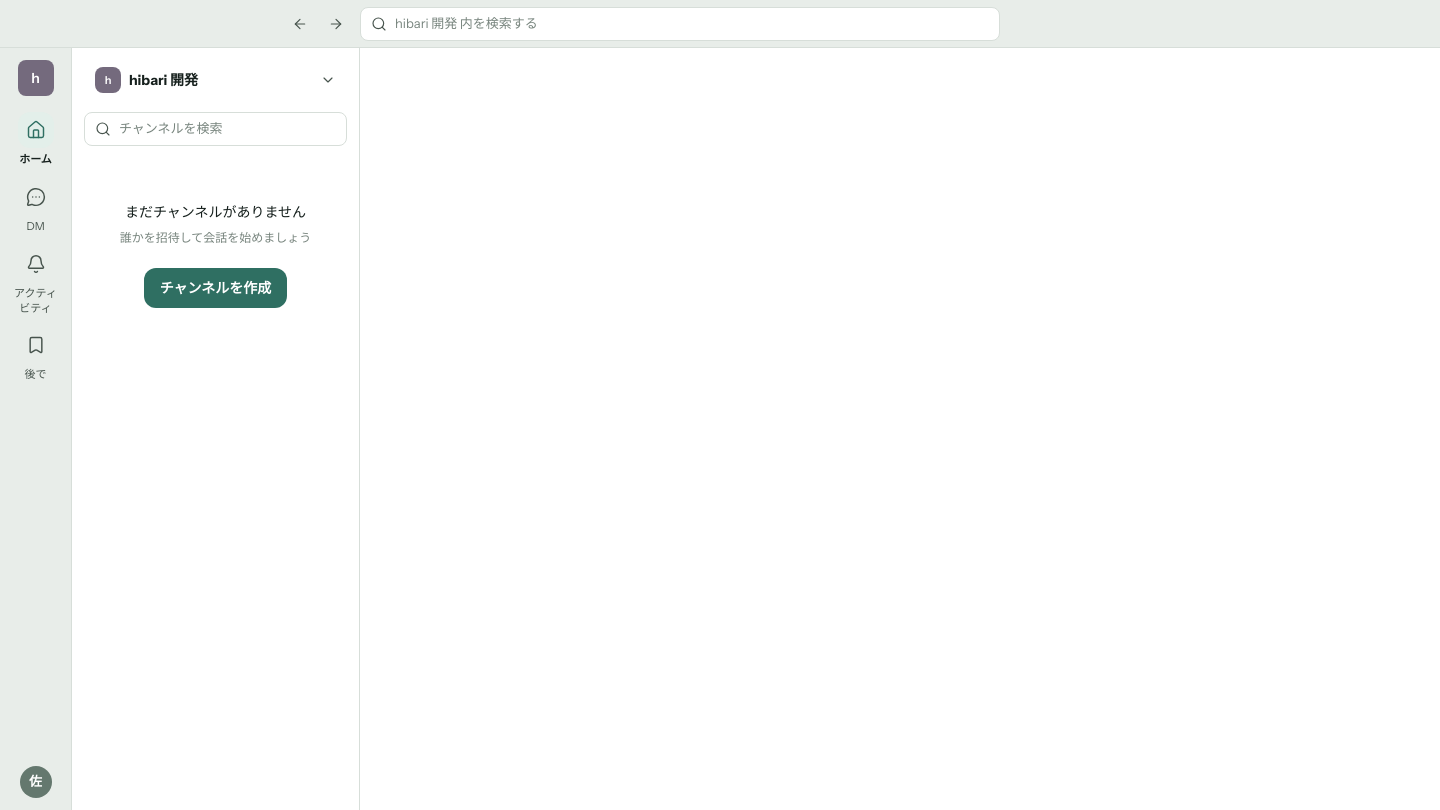
Test: WorkspaceScreen › creates the first channel of an empty workspace and opens it
Click the button "チャンネルを作成": (216, 288) [144,268,287,308]
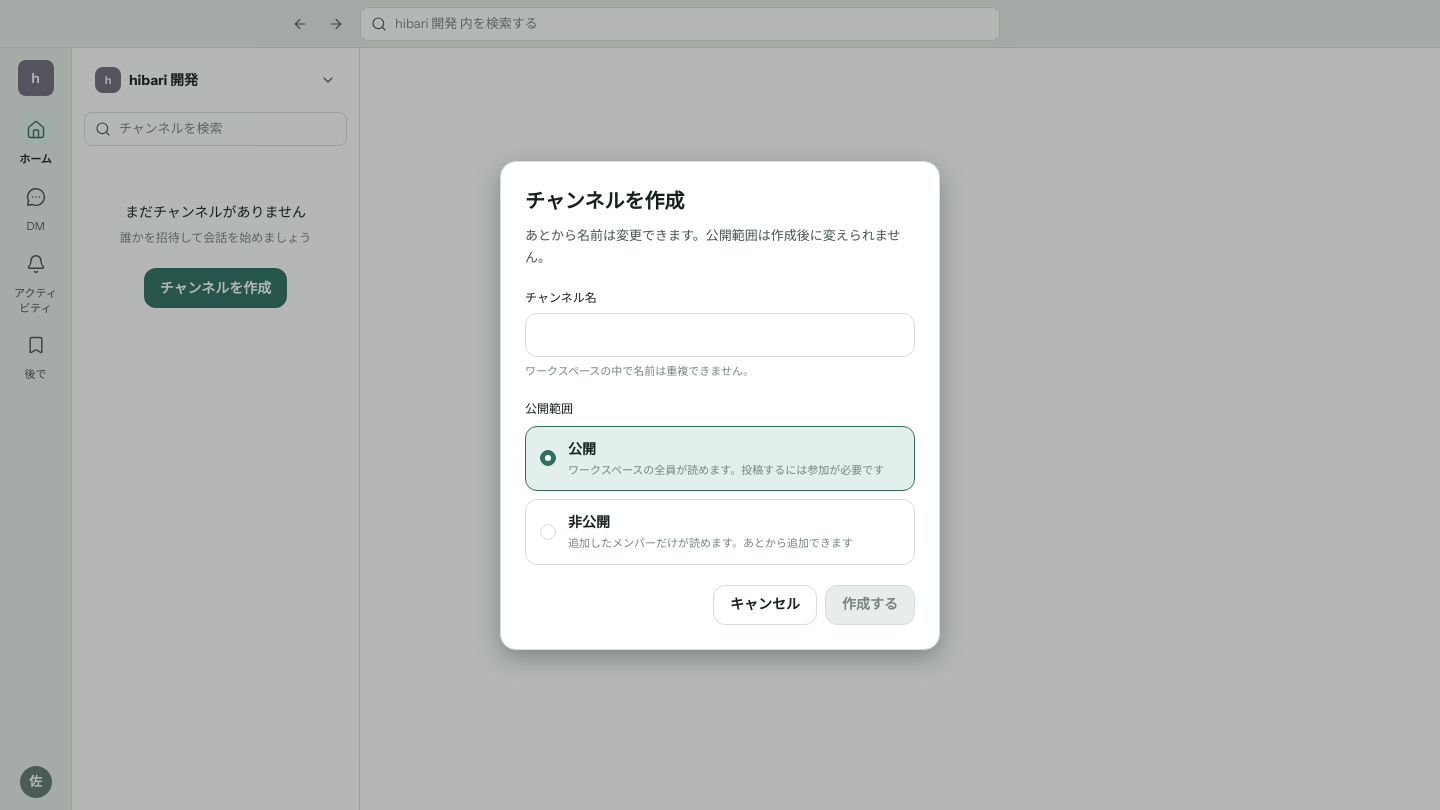
In the field labelled "チャンネル名": (720, 335) [525,313,915,357], type "リリース準備"
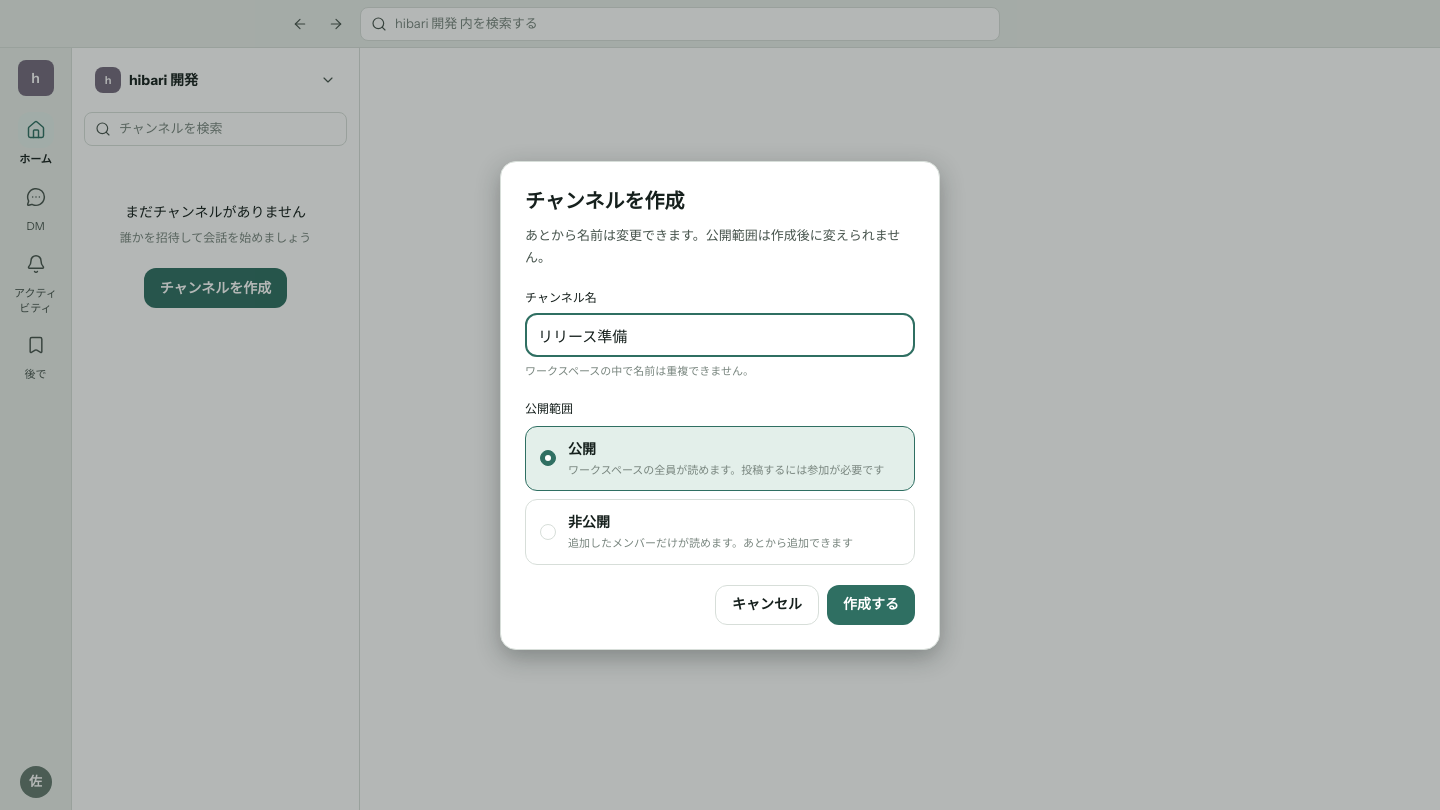
Click the radio button labelled "非公開 追加したメンバーだけが読めます。あとから追加できます": (589, 522) [525,499,915,564]
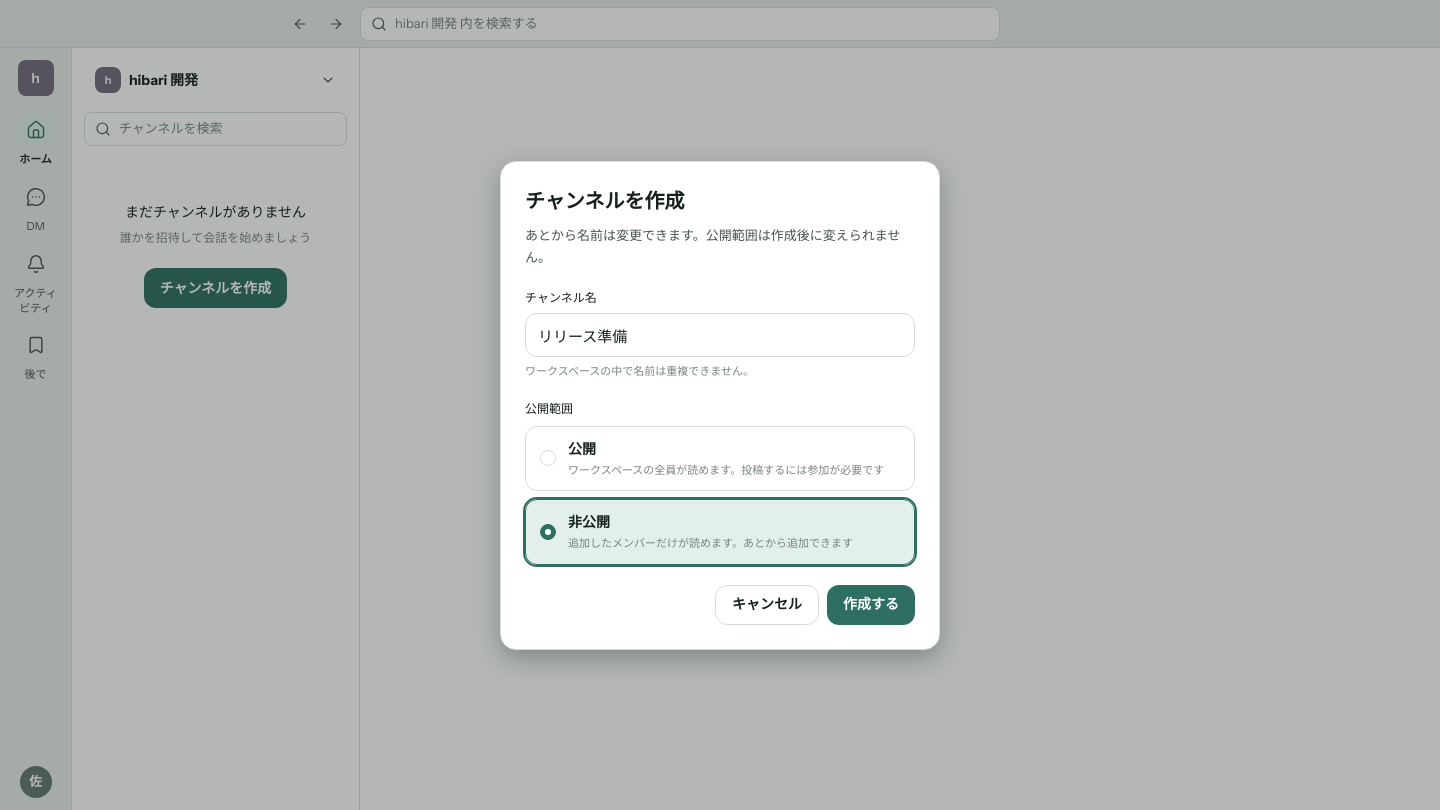
Click the button "作成する": (871, 604) [827,584,915,624]
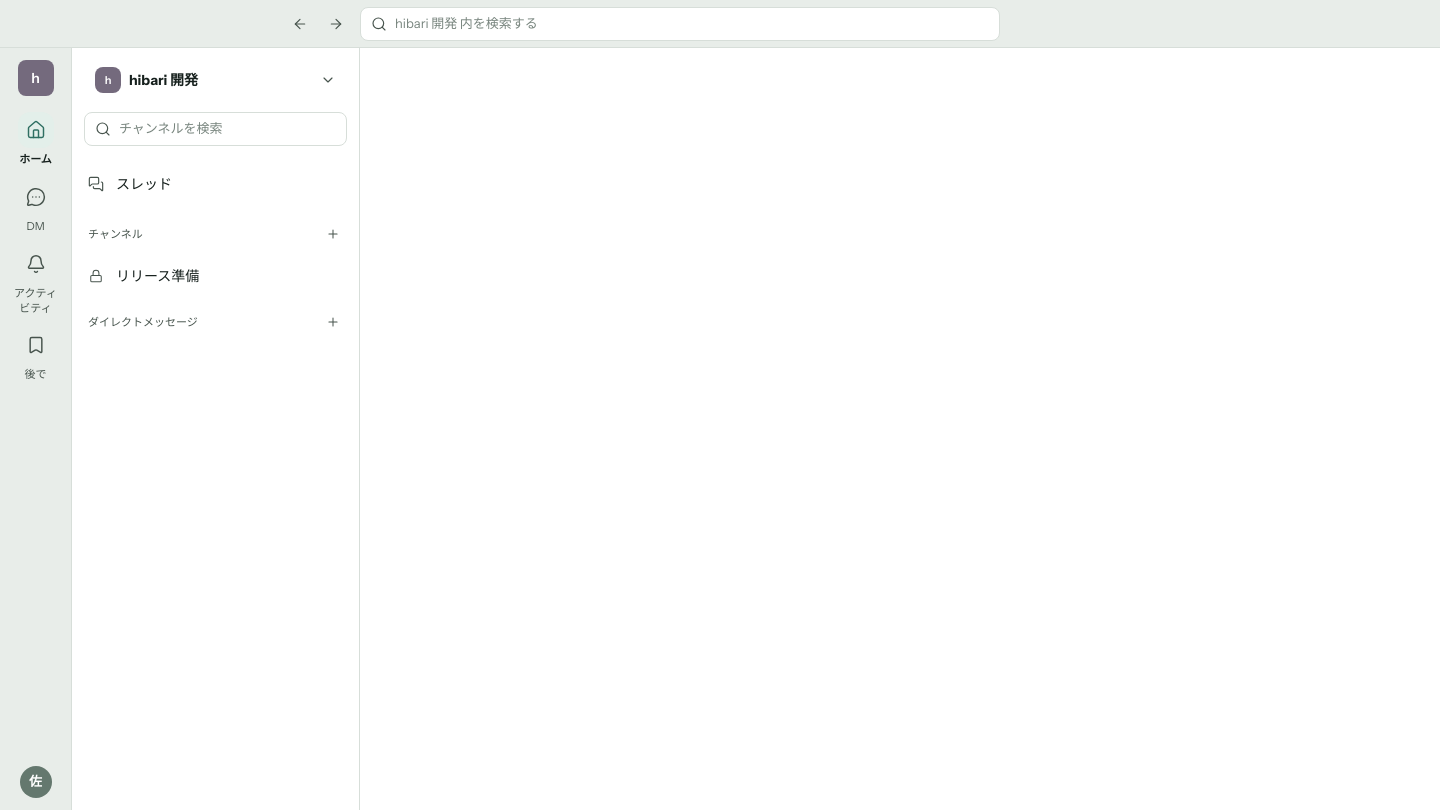
Now the link "リリース準備" is shown, box [89,266,199,284]
